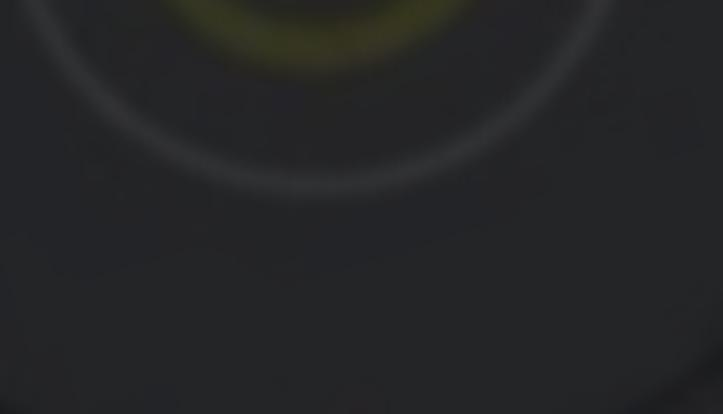Apron: (172, 1, 446, 79)
